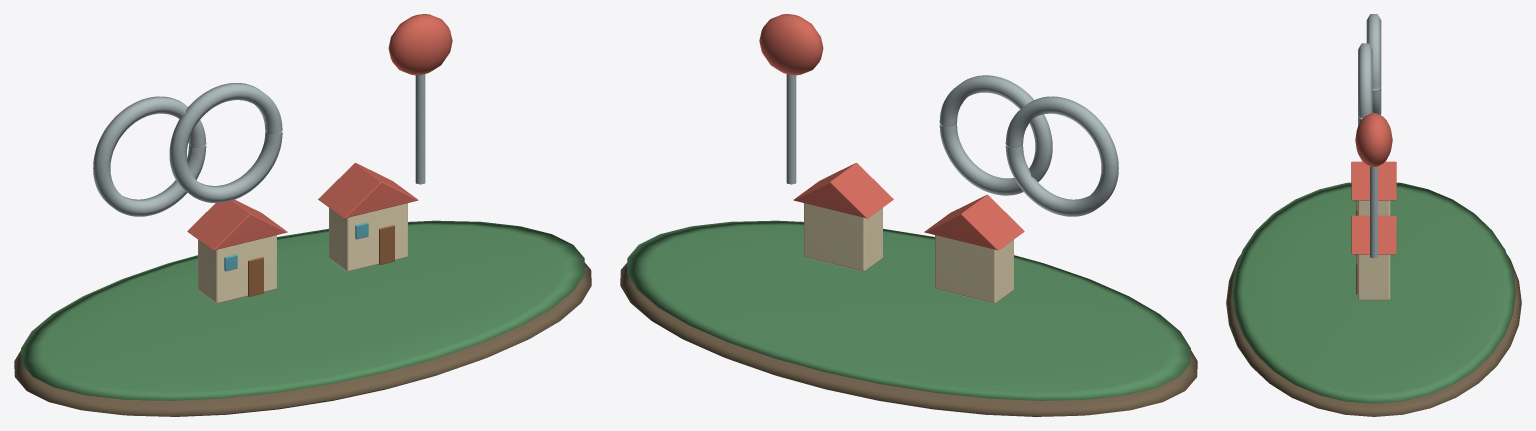
The model's file is complete-first-attached-nearby.glb.
3 views of the same model, side by side, from view 1: azimuth 30°, elevation 25°; view 2: azimuth 150°, elevation 25°; view 3: azimuth 270°, elevation 25° (orthographic). The views are drawn at different scales.
Parts seen in each view (by area): view 1: complete-first-attached-nearby_surface_01, complete-first-attached-nearby_surface_02, complete-first-attached-nearby_surface_00, complete-first-attached-nearby_surface_03, complete-first-attached-nearby_surface_04, complete-first-attached-nearby_surface_05; view 2: complete-first-attached-nearby_surface_01, complete-first-attached-nearby_surface_02, complete-first-attached-nearby_surface_00, complete-first-attached-nearby_surface_03, complete-first-attached-nearby_surface_04; view 3: complete-first-attached-nearby_surface_01, complete-first-attached-nearby_surface_00, complete-first-attached-nearby_surface_03, complete-first-attached-nearby_surface_02, complete-first-attached-nearby_surface_04.
Boxes of the visible parts, x1,y1,x2,y2 form: complete-first-attached-nearby_surface_01: (21,220,584,400); complete-first-attached-nearby_surface_02: (93,74,425,216); complete-first-attached-nearby_surface_00: (14,262,591,416); complete-first-attached-nearby_surface_03: (187,14,452,250); complete-first-attached-nearby_surface_04: (198,203,407,303); complete-first-attached-nearby_surface_05: (248,225,394,296); complete-first-attached-nearby_surface_01: (627,220,1190,400); complete-first-attached-nearby_surface_02: (786,74,1118,216); complete-first-attached-nearby_surface_00: (620,262,1197,416); complete-first-attached-nearby_surface_03: (759,14,1024,250); complete-first-attached-nearby_surface_04: (804,203,1013,303); complete-first-attached-nearby_surface_01: (1232,182,1515,403); complete-first-attached-nearby_surface_00: (1226,255,1521,416); complete-first-attached-nearby_surface_03: (1351,113,1396,254); complete-first-attached-nearby_surface_02: (1358,14,1381,258); complete-first-attached-nearby_surface_04: (1357,200,1390,300).
Bounding box in the file's own units: 4.56 × 2.33 × 2.5.
